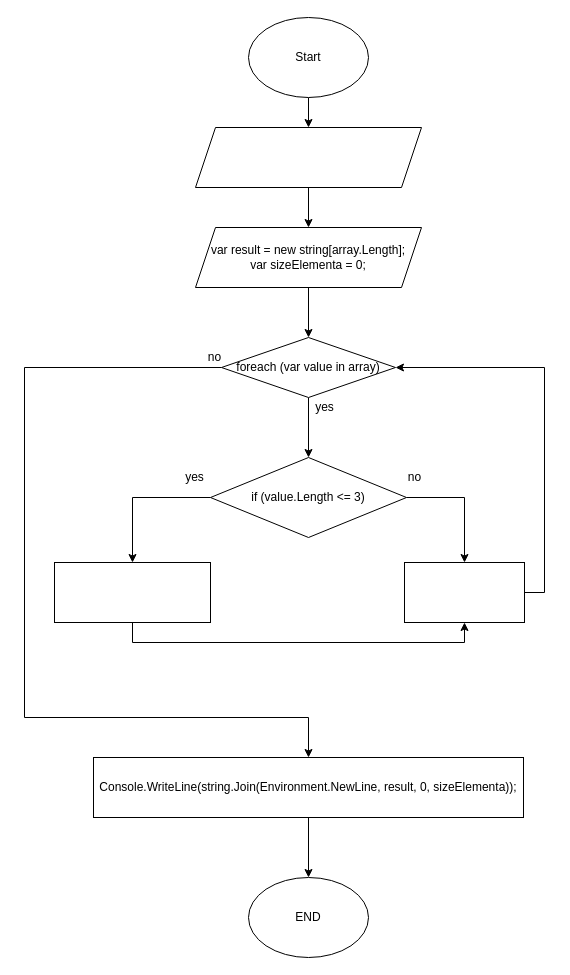
Image size: 570x975. Some labels were removed from this diagram. Here are the shapes that lost their labels. From the top down, the centre of each, then its label:
(308,157): string[] array ={ "a", "12", "dcae12", "ПриветЗдравствуйте", "21389", "K"};
(132,592): result[sizeElementa] = value;
(464,592): sizeElementa++;
